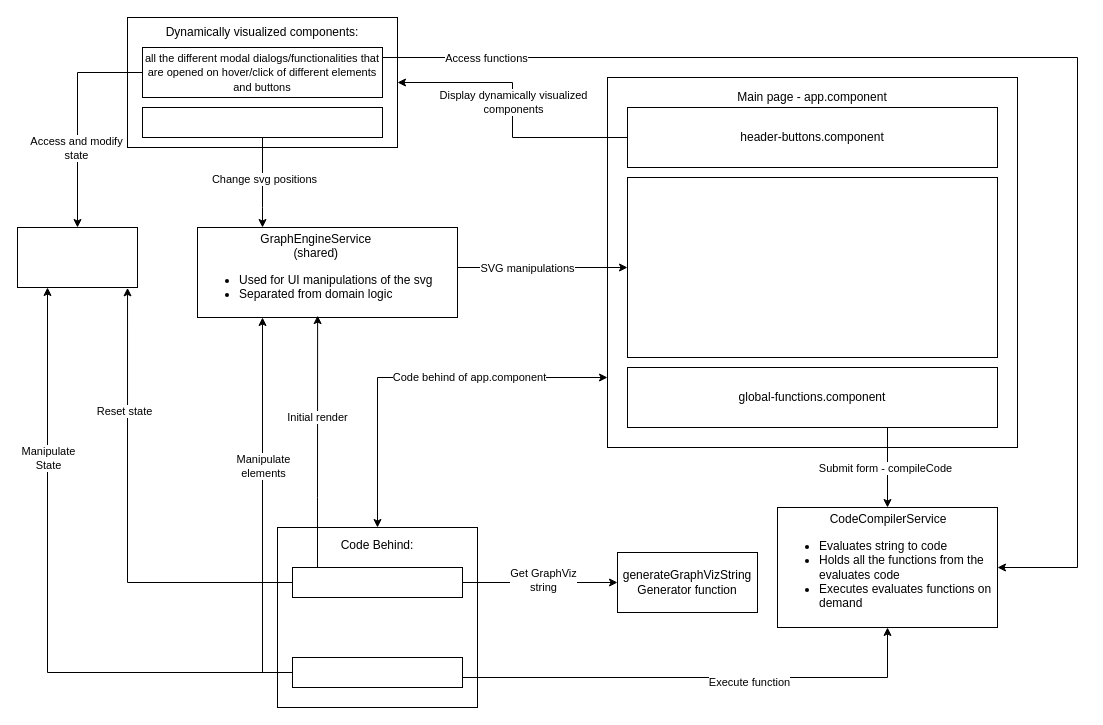
Image size: 1103x725. Some labels were removed from this diagram. The shapes that lost their labels are listed below. From the top down, each one's centre as x and y in pixels, then its label:
At (x=262, y=122): "position-changer.component - used for moving the elements of the svg".
At (x=77, y=257): "GenNet State (shared)".
At (x=812, y=267): "svg container".
At (x=377, y=582): "Gen net initialization".
At (x=377, y=672): "Simulation algorithm".
